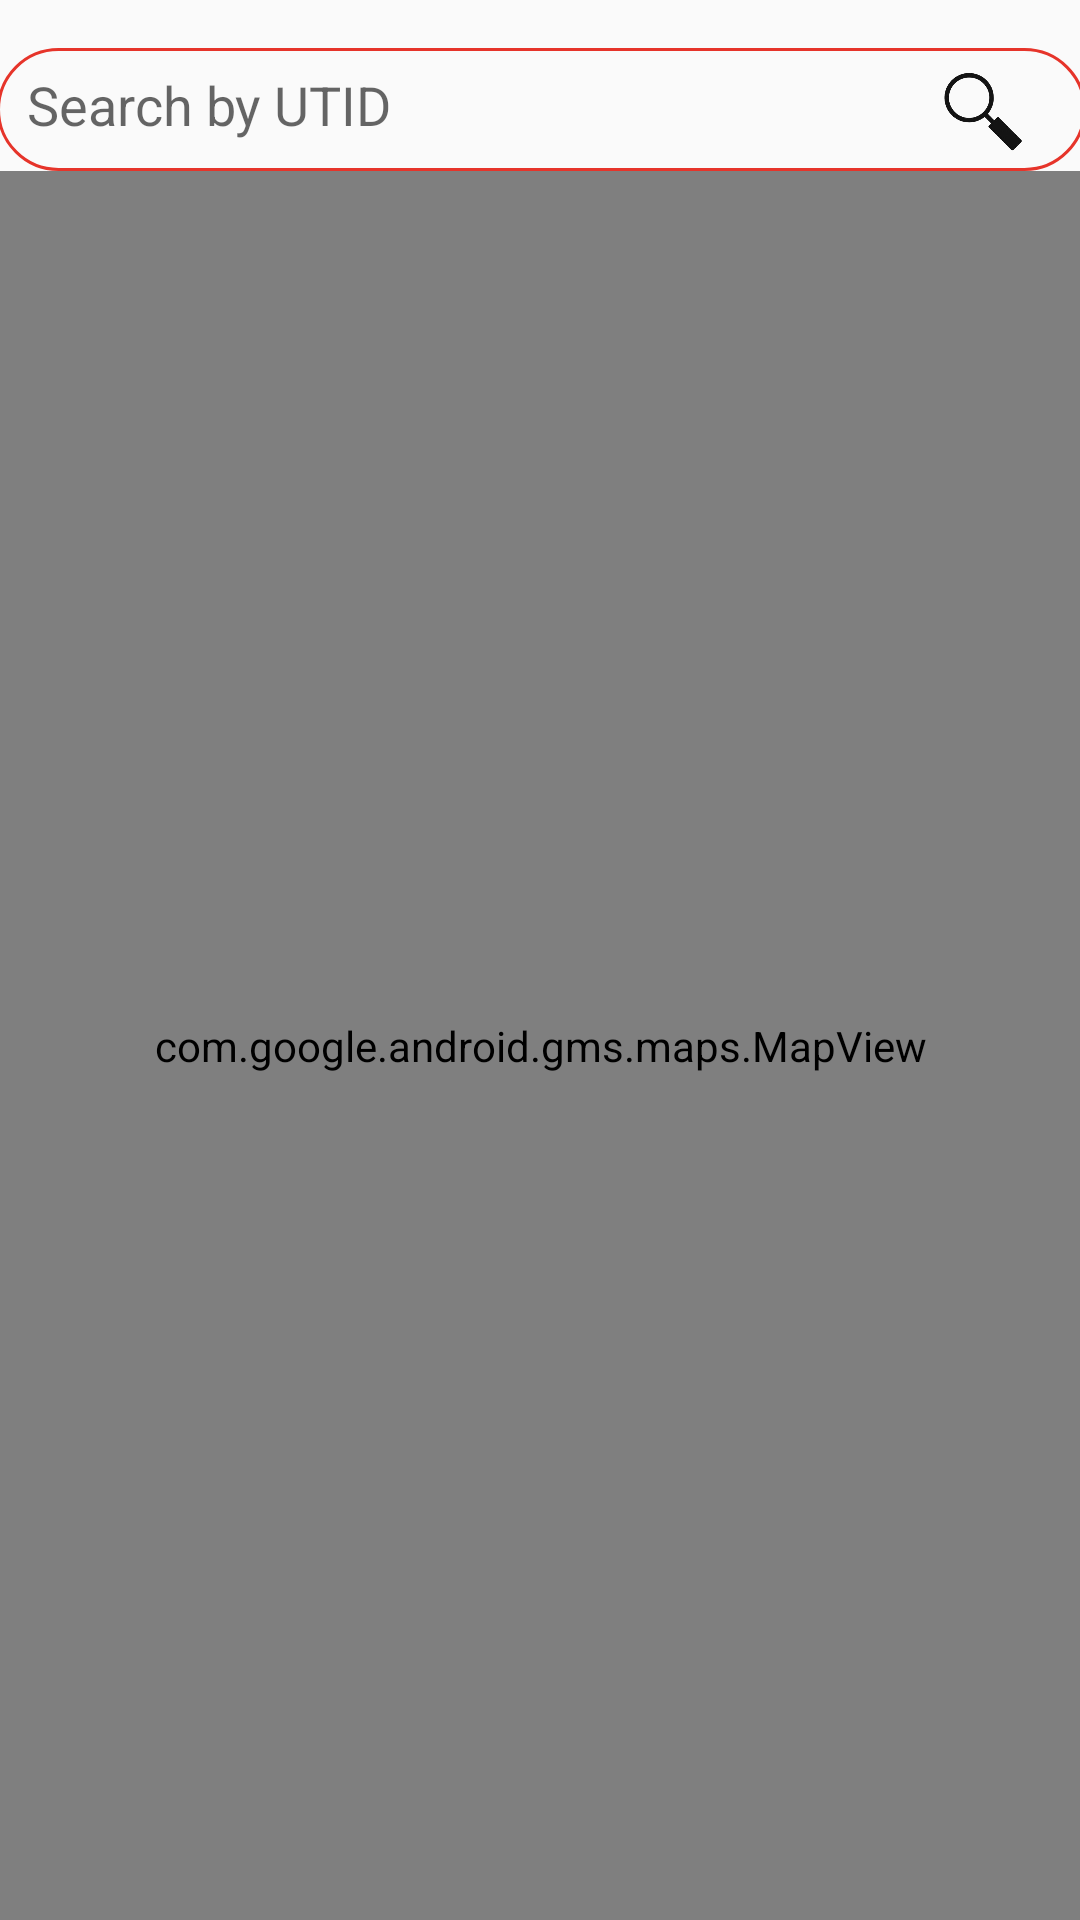

Point at icon controls on the screen. Image size 1080×1920, points as (x,y).
searchicon: (983,111)
